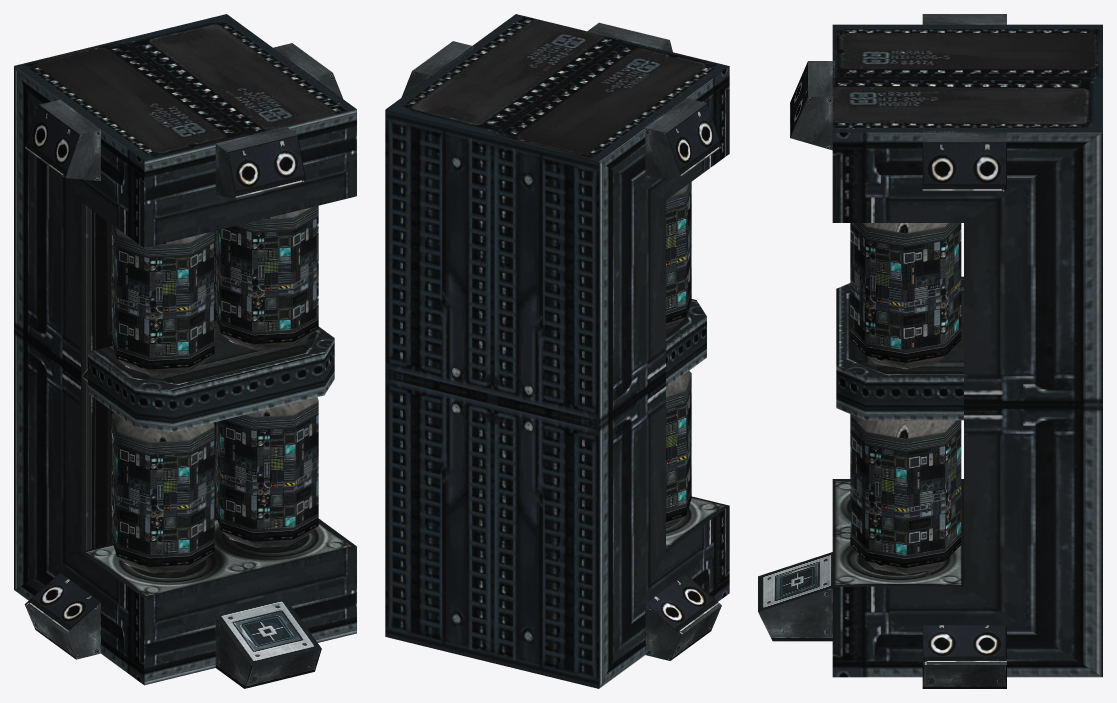
Rendered from Battery_large_02.FBX.
3 renders of one model, left to right at view 1: azimuth 30°, elevation 25°; view 2: azimuth 150°, elevation 25°; view 3: azimuth 270°, elevation 25°, orthographic. The views are drawn at different scales.
Parts seen in each view (by area): view 1: Battery_large_02, Liquid; view 2: Battery_large_02, Liquid; view 3: Battery_large_02, Liquid.
Boxes of the visible parts, x1,y1,x2,y2 form: Battery_large_02: (14, 14, 356, 688); Liquid: (111, 217, 318, 554); Battery_large_02: (385, 14, 729, 688); Liquid: (666, 189, 691, 509); Battery_large_02: (758, 14, 1102, 688); Liquid: (850, 224, 961, 555).
Size of the model in its own units: 231 by 410 by 235.
